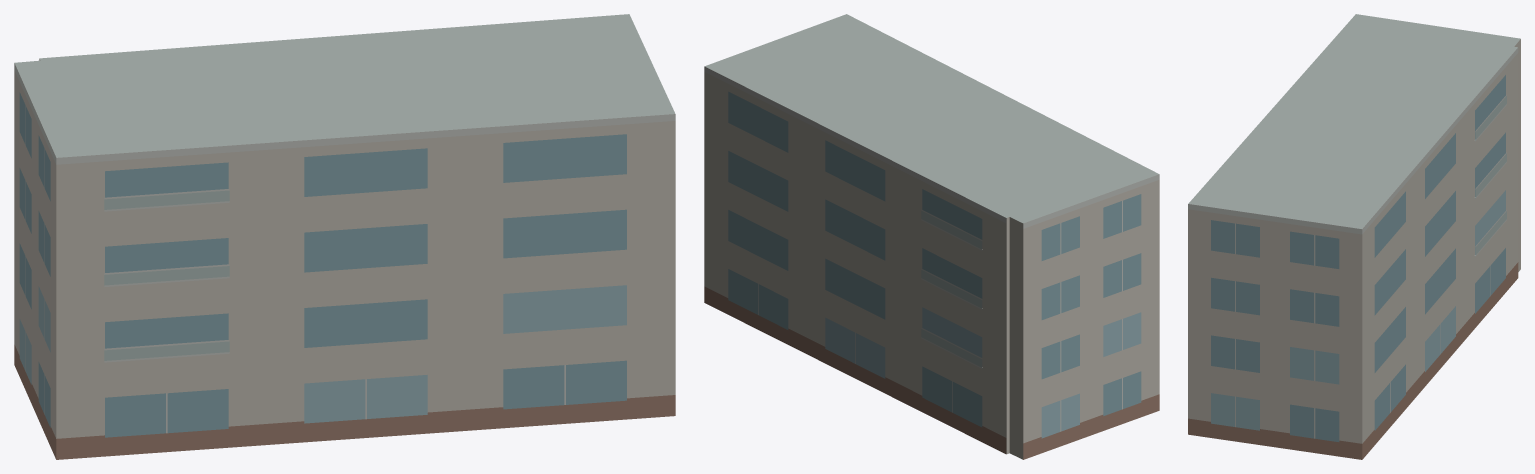
Rendered from survey-upis-32718960.glb.
3 renders of one model, left to right at view 1: azimuth 30°, elevation 25°; view 2: azimuth 150°, elevation 25°; view 3: azimuth 270°, elevation 25°, orthographic. The views are drawn at different scales.
Visible parts, largest first — view 1: survey-upis-32718960.tmp; view 2: survey-upis-32718960.tmp; view 3: survey-upis-32718960.tmp.
Boxes of the visible parts, <box> form: survey-upis-32718960.tmp: <box>14,14,675,459</box>; survey-upis-32718960.tmp: <box>704,14,1159,459</box>; survey-upis-32718960.tmp: <box>1188,14,1520,459</box>.
Bounding box in the file's own units: 21.31 × 10.65 × 13.93.
